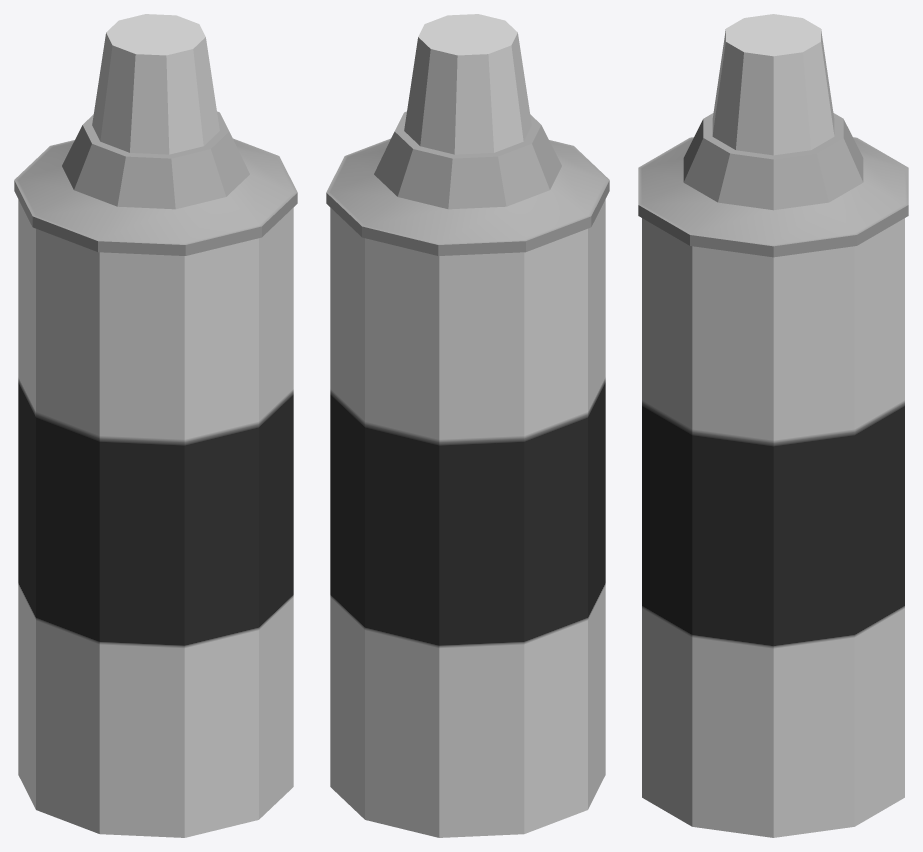
The model's file is obj_paint_spray_black.fbx.
3 renders of one model, left to right at view 1: azimuth 30°, elevation 25°; view 2: azimuth 150°, elevation 25°; view 3: azimuth 270°, elevation 25°, orthographic.
Visible parts, largest first — view 1: obj_paint_spray_black; view 2: obj_paint_spray_black; view 3: obj_paint_spray_black.
Boxes of the visible parts, <box> form: obj_paint_spray_black: <box>14,14,297,837</box>; obj_paint_spray_black: <box>326,14,609,837</box>; obj_paint_spray_black: <box>638,14,908,837</box>.
Size of the model in its own units: 0.142 by 0.41 by 0.135.
Materials: 1 (1 with a texture image).
